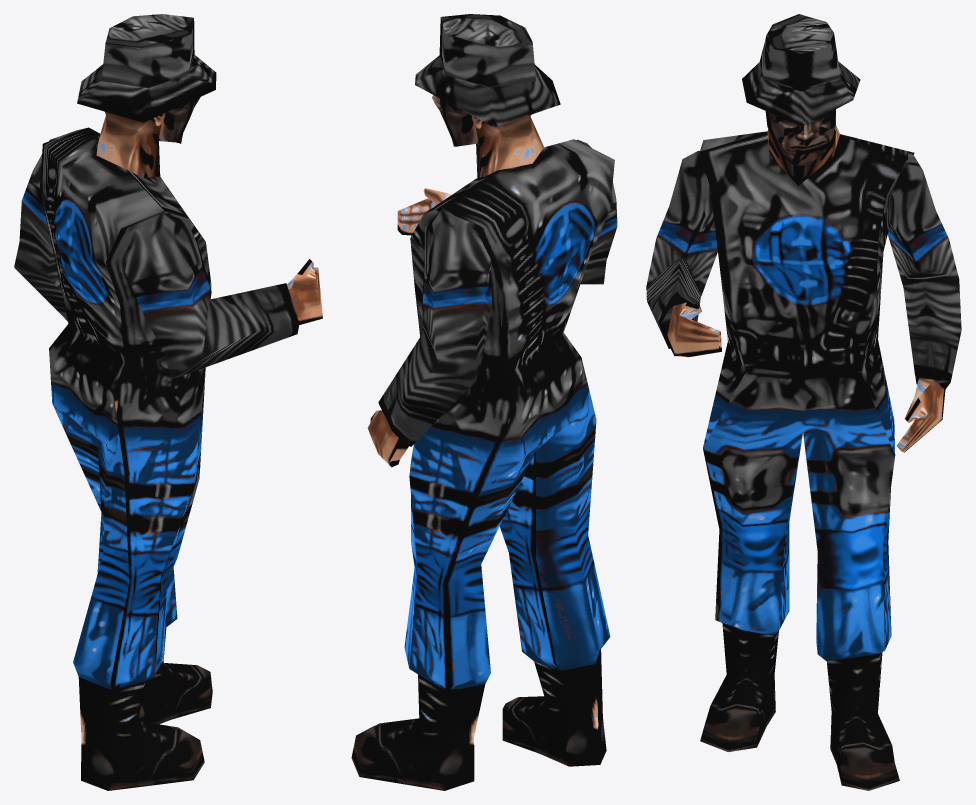
File: sniper2_blue.glb
3 views of the same model, side by side, from view 1: azimuth 30°, elevation 25°; view 2: azimuth 150°, elevation 25°; view 3: azimuth 270°, elevation 25° (orthographic). The views are drawn at different scales.
Visible parts, largest first — view 1: sniper2; view 2: sniper2; view 3: sniper2.
Boxes of the visible parts, box(x1,y1,x2,y2) form: sniper2: box(14, 14, 322, 790); sniper2: box(351, 14, 617, 790); sniper2: box(646, 14, 961, 790).
Bounding box in the file's own units: 24.91 × 77.61 × 31.
1 material, 1 textured.
